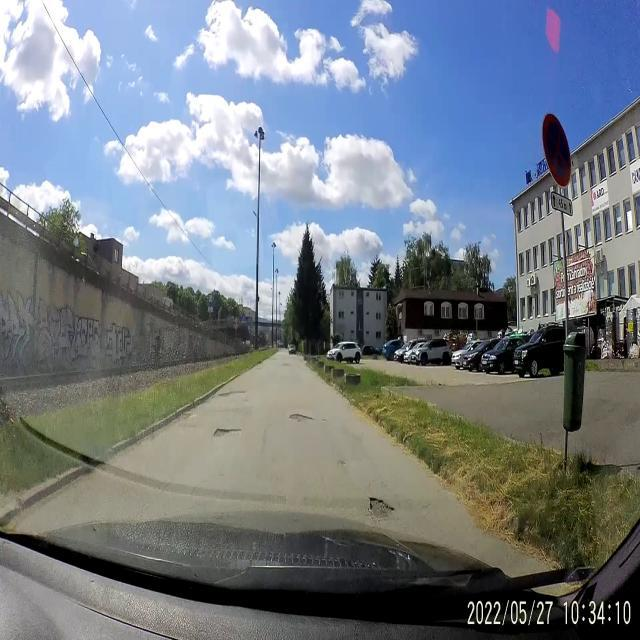Pothole: (364, 489, 396, 524), (211, 424, 243, 440), (286, 411, 314, 427), (216, 386, 246, 399), (182, 409, 196, 422), (337, 456, 345, 470), (321, 417, 328, 424)
